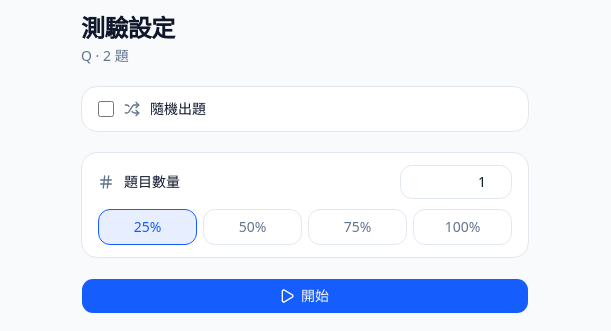
QuizSession › shows the pre-session options and starts a session
The width and height of the screenshot is (611, 331).
Check: the heading "測驗設定" is shown, box [81,11,175,44]
Click the button "開始".
click(305, 296)  # box [81,278,529,314]
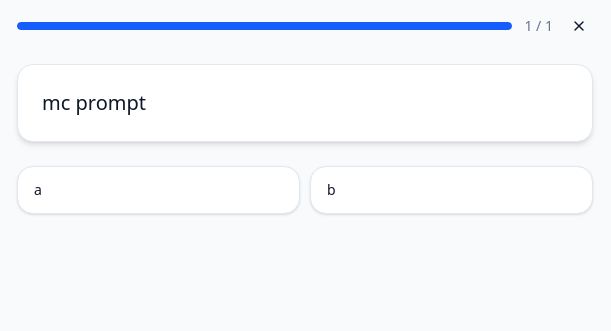
Check: the text "mc prompt" is shown, box [17,64,593,142]
